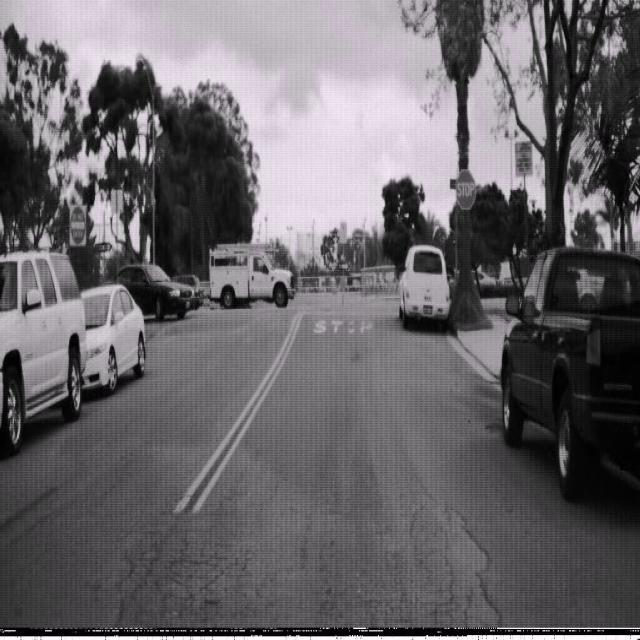doNotEnter: (70, 204, 86, 246)
stop: (456, 168, 476, 211)
